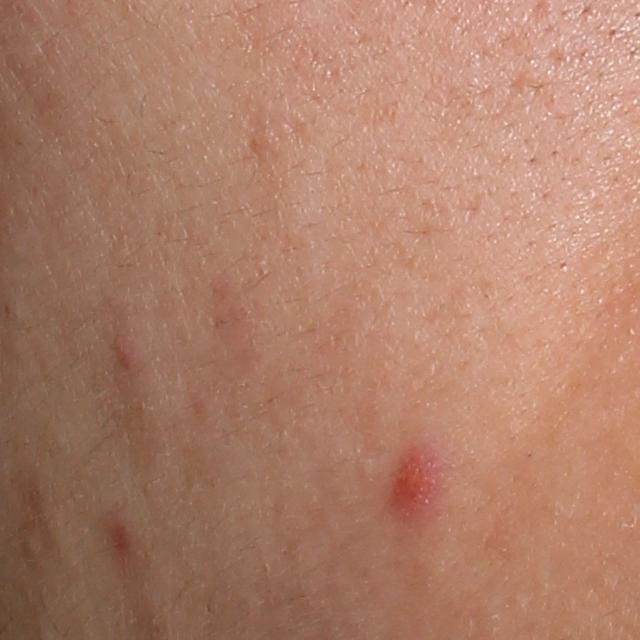comedo: (20, 535, 44, 562)
papule: (385, 446, 439, 516), (93, 513, 143, 563), (105, 332, 141, 380)
